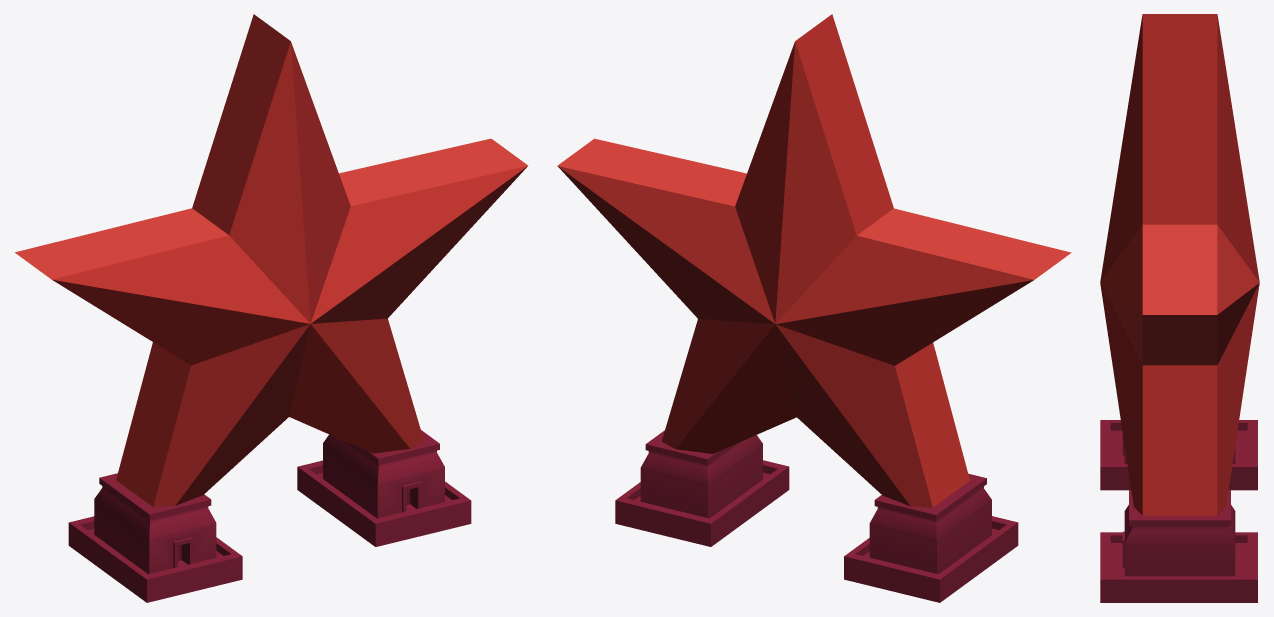
Rendered from The_Lone_Star_Red.fbx.
The picture shows the model from 3 angles, left to right: view 1: azimuth 30°, elevation 25°; view 2: azimuth 150°, elevation 25°; view 3: azimuth 270°, elevation 25°; orthographic projection.
Parts seen in each view (by area): view 1: The_Lone_Star_Red; view 2: The_Lone_Star_Red; view 3: The_Lone_Star_Red.
Part boxes in pixels (x1=…): The_Lone_Star_Red: x1=15, y1=14, x2=528, y2=602; The_Lone_Star_Red: x1=557, y1=14, x2=1071, y2=602; The_Lone_Star_Red: x1=1100, y1=14, x2=1259, y2=602.
Size of the model in its own units: 637 by 646 by 183.
